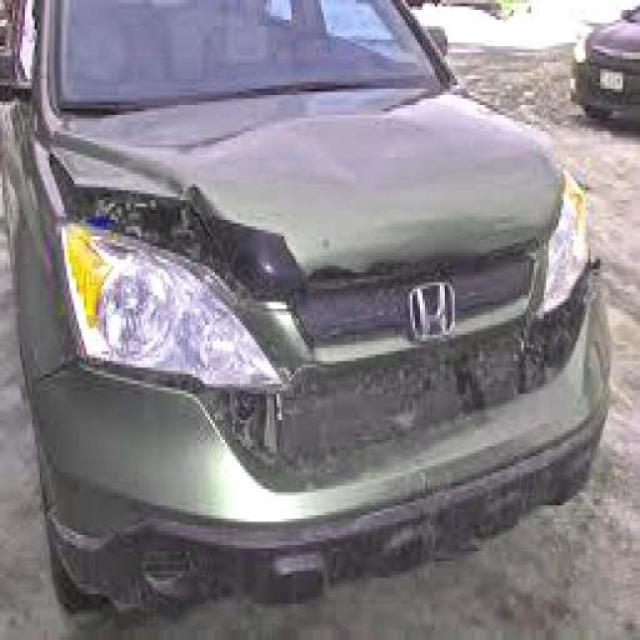car damage: (49, 126, 304, 310)
